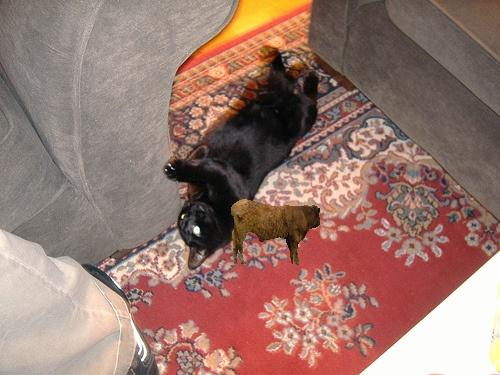tampered: (232, 200, 320, 265)
